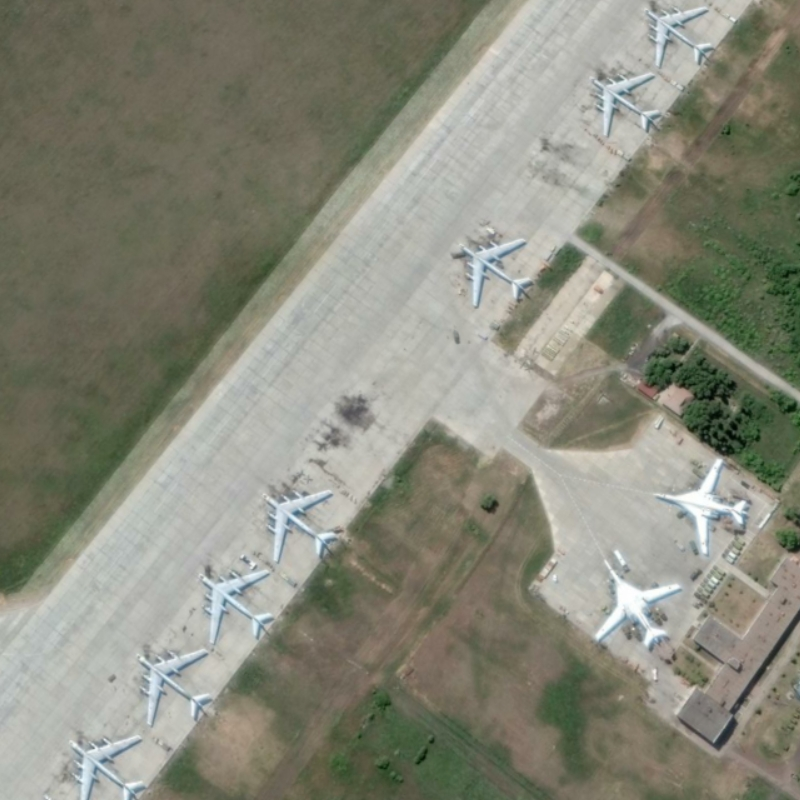A17: (195, 564, 280, 647), (134, 645, 215, 731), (260, 488, 341, 566), (586, 69, 667, 141), (456, 235, 532, 310), (65, 730, 145, 799), (641, 2, 716, 70)
A6: (650, 455, 752, 557), (591, 556, 685, 655)
